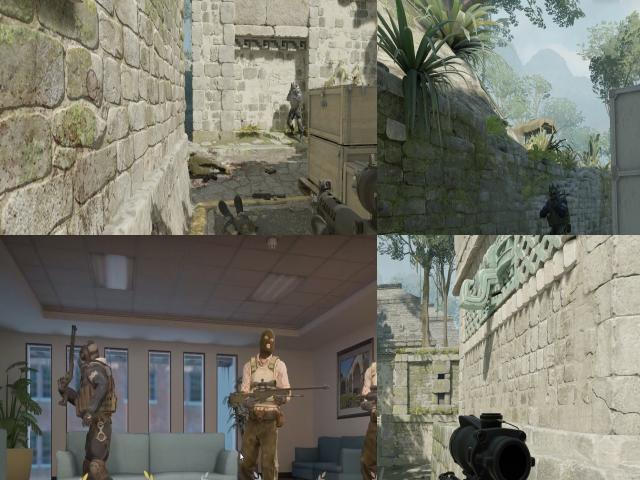CT: (72, 334, 122, 449), (280, 83, 306, 143)
CT-Head: (533, 183, 572, 235), (76, 336, 102, 368), (546, 182, 562, 204), (286, 82, 300, 100)
Dead: (188, 177, 277, 235), (186, 150, 236, 176)
T: (238, 322, 294, 443), (358, 333, 377, 451)
T-Head: (253, 325, 282, 365), (368, 326, 377, 371)
